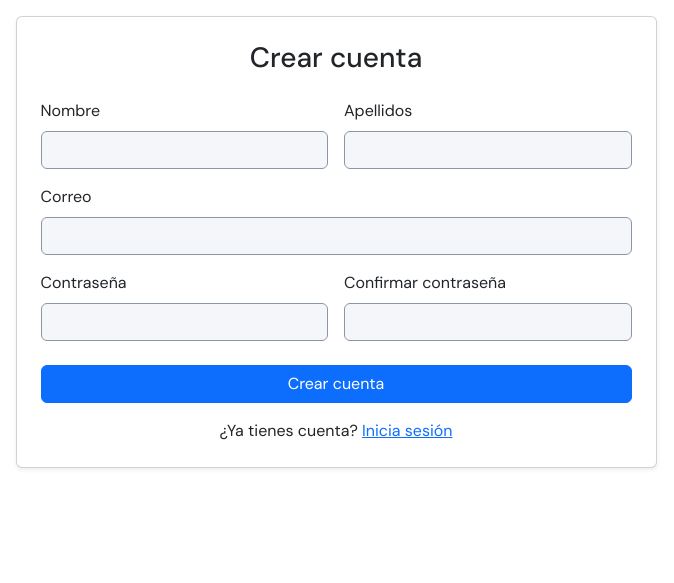
Registro › muestra errores en todos los campos si se envía vacío
Click the button "Crear cuenta". click: (336, 384)
box: [40, 365, 632, 403]
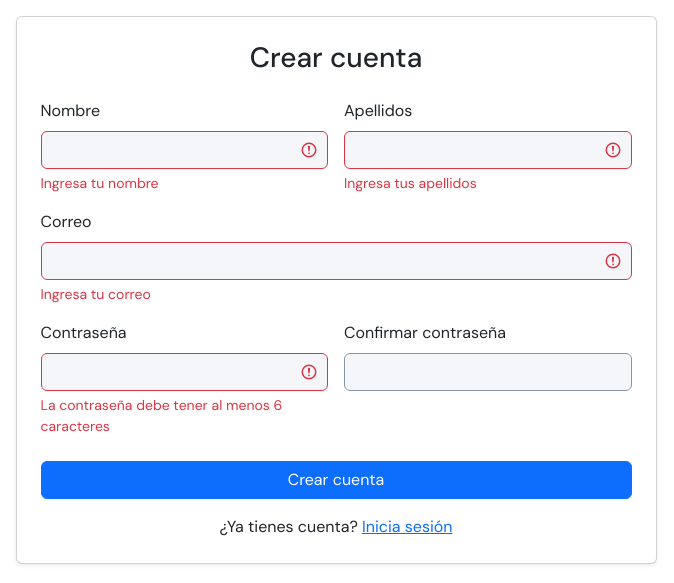
Now the text "Ingresa tu nombre" is shown, box [40, 174, 158, 192]
Now the text "Ingresa tus apellidos" is shown, box [344, 174, 477, 192]
Now the text "Ingresa tu correo" is shown, box [40, 285, 151, 303]
